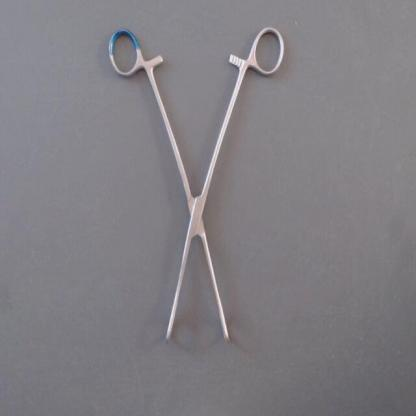Sponge Forceps: (102, 20, 290, 359)
